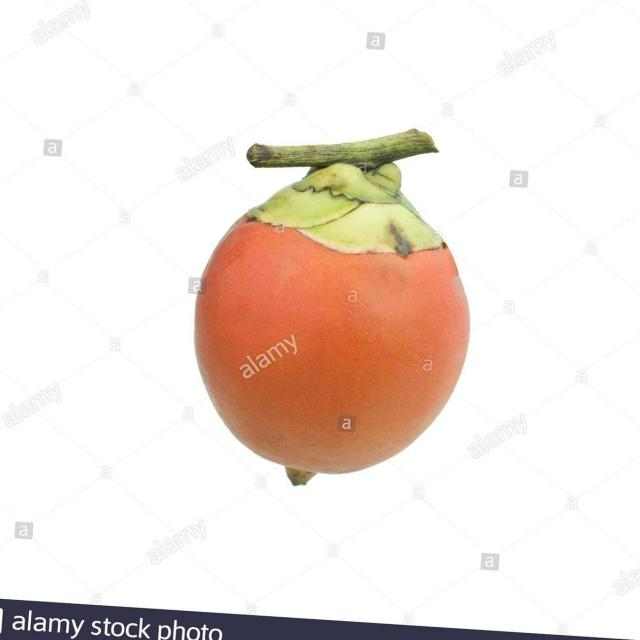good: (195, 129, 469, 475)
